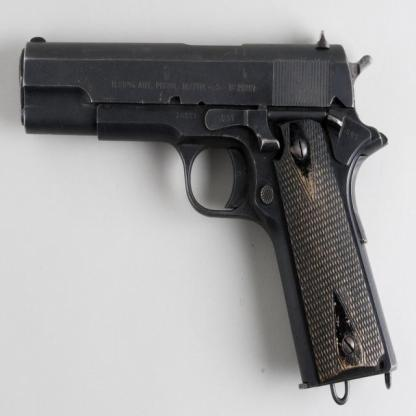weapon: (18, 30, 398, 406)
